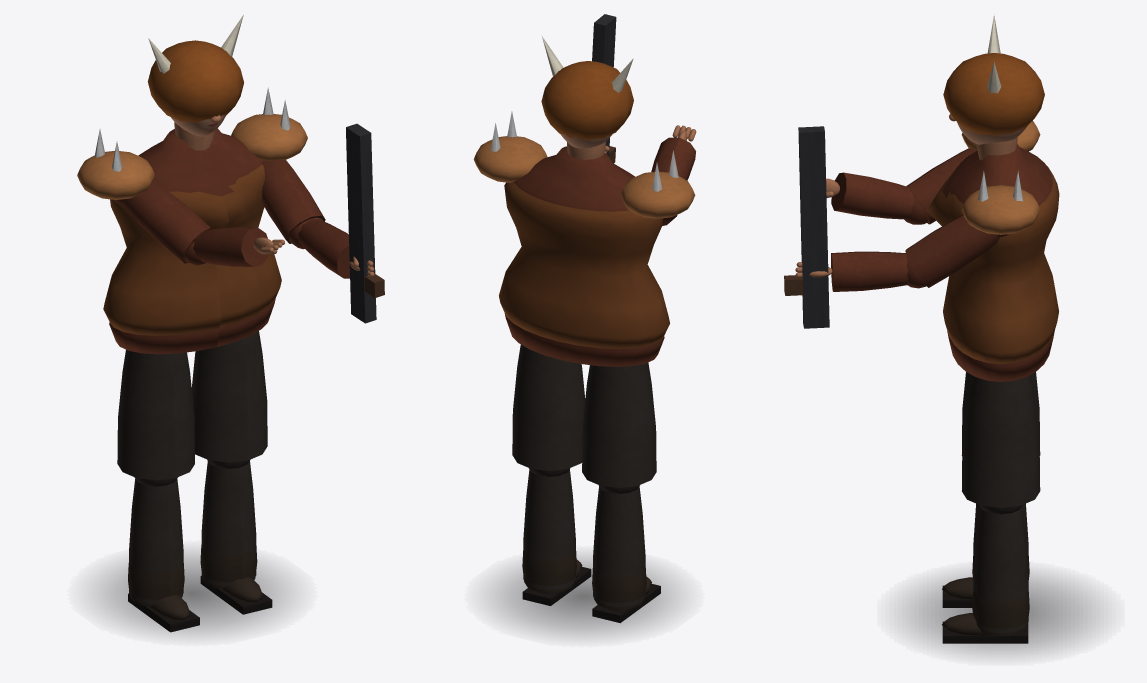
Rendered from enemy_rustqueen.glb.
3 renders of one model, left to right at view 1: azimuth 30°, elevation 25°; view 2: azimuth 150°, elevation 25°; view 3: azimuth 270°, elevation 25°, orthographic. The views are drawn at different scales.
Visible parts, largest first — view 1: chest, legL, legR, shinR, shinL, foreR, head, object 11, armL, foreL, armR; view 2: chest, legL, legR, object 11, shinR, shinL, head, foreL, foreR; view 3: chest, legR, foreR, object 11, shinR, head, armR, foreL, armL, shinL, legL.
Part boxes in pixels (left/top/right/bottom): chest: left=77, top=87, right=307, bottom=354; legL: left=117, top=349, right=194, bottom=480; legR: left=191, top=331, right=267, bottom=462; shinR: left=200, top=459, right=272, bottom=614; shinL: left=128, top=477, right=199, bottom=632; foreR: left=289, top=123, right=384, bottom=323; head: left=147, top=14, right=243, bottom=136; object 11: left=92, top=551, right=292, bottom=635; armL: left=114, top=182, right=211, bottom=263; foreL: left=185, top=227, right=284, bottom=266; armR: left=261, top=160, right=325, bottom=243; chest: left=473, top=111, right=695, bottom=366; legL: left=582, top=362, right=656, bottom=487; legR: left=512, top=344, right=585, bottom=470; object 11: left=488, top=556, right=680, bottom=636; shinR: left=522, top=468, right=591, bottom=605; shinL: left=592, top=485, right=660, bottom=623; head: left=541, top=36, right=633, bottom=148; foreL: left=651, top=125, right=696, bottom=180; foreR: left=592, top=14, right=616, bottom=163; chest: left=926, top=120, right=1059, bottom=381; legR: left=962, top=374, right=1040, bottom=507; foreR: left=784, top=126, right=926, bottom=328; object 11: left=902, top=573, right=1099, bottom=654; shinR: left=942, top=505, right=1029, bottom=643; head: left=943, top=14, right=1044, bottom=144; armR: left=905, top=214, right=1007, bottom=287; foreL: left=826, top=172, right=928, bottom=224; armL: left=906, top=148, right=976, bottom=224; shinL: left=942, top=503, right=1029, bottom=607; legL: left=961, top=372, right=1040, bottom=455.
Bounding box in the file's own units: 0.8624 × 2.1 × 1.14.
5 materials, 4 textured.
